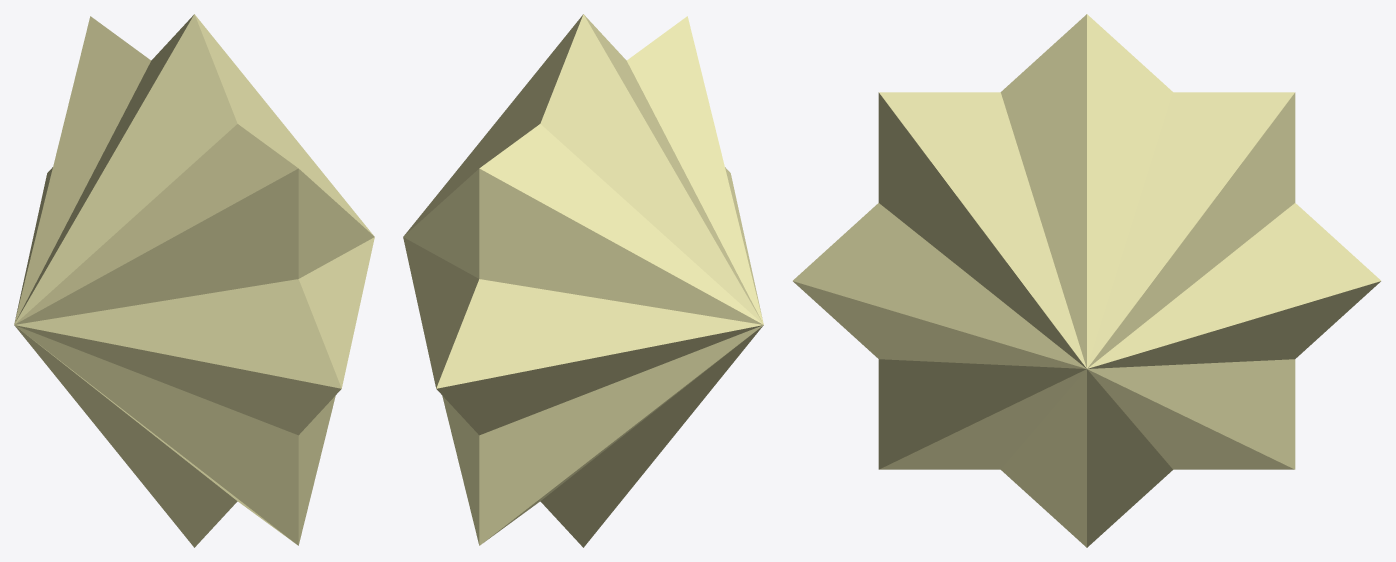
The model's file is star_octa_yellow.glb.
The picture shows the model from 3 angles, left to right: view 1: azimuth 30°, elevation 25°; view 2: azimuth 150°, elevation 25°; view 3: azimuth 270°, elevation 25°; orthographic projection.
Parts seen in each view (by area): view 1: diamond (×2); view 2: diamond (×2); view 3: diamond (×2).
Part boxes in pixels (x1=…): diamond (×2): x1=14, y1=14, x2=374, y2=547; diamond (×2): x1=403, y1=14, x2=763, y2=547; diamond (×2): x1=793, y1=14, x2=1380, y2=547.
Bounding box in the file's own units: 0.4 × 0.5657 × 0.5657.
